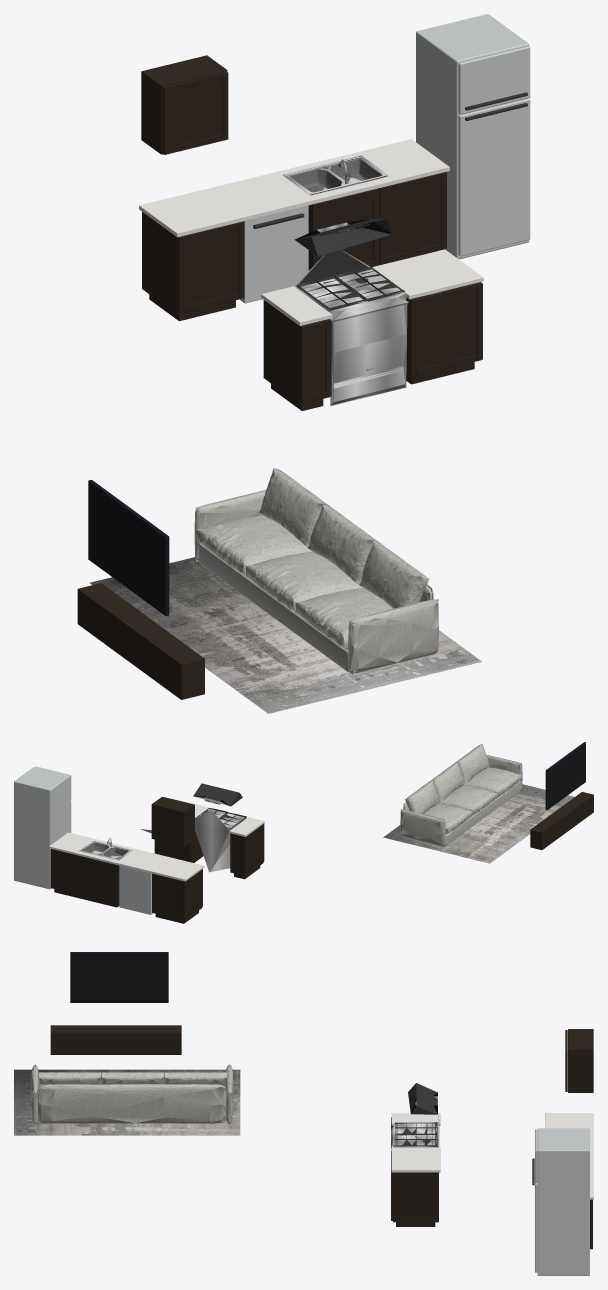
The model's file is bell-living-kitchen-v4.glb.
3 renders of one model, top to bottom at view 1: azimuth 30°, elevation 25°; view 2: azimuth 150°, elevation 25°; view 3: azimuth 270°, elevation 25°, orthographic. The views are drawn at different scales.
Parts seen in each view (by area): view 1: Bell living rug, Bell range and oven, Bell refrigerator lower door, Bell rear white counter, Bell refrigerator enclosed body, Bell living media console, Bell living television, Bell living - Monaco - Braço · Sala 01, Bell dishwasher enclosed body, Bell stove right cabinet door 1 recessed panel, Bell living - 1 · Sala 03, Bell living - 1 · Sala 02 (+18 smaller); view 2: Bell refrigerator enclosed body, Bell living rug, Bell range and oven, Bell sink cabinet back, Bell rear white counter, Bell upper cabinet body, Bell living media console, Bell living television, Bell dishwasher enclosed body, Bell living - Monaco - Braço · Sala 02, Bell rear left cabinet back, Bell living - 1 · Sala 01 (+14 smaller); view 3: Bell refrigerator enclosed body, Bell living - Monaco - Braço · Sala 03, Bell living rug, Bell living television, Bell living media console, Bell stove right cabinet right side, Bell range and oven, Bell upper cabinet body, Bell stove right cabinet white top, Bell rear white counter, Bell living - 1#1 · Sala 01, Bell living - 1#1 · Sala 02 (+2 smaller).
Boxes of the visible parts, bbox=[...] form: Bell living rug: bbox=[89, 557, 481, 713]; Bell range and oven: bbox=[294, 218, 440, 405]; Bell refrigerator lower door: bbox=[458, 98, 530, 256]; Bell rear white counter: bbox=[139, 139, 449, 237]; Bell refrigerator enclosed body: bbox=[416, 14, 529, 259]; Bell living media console: bbox=[77, 583, 204, 699]; Bell living television: bbox=[88, 480, 169, 615]; Bell living - Monaco - Braço · Sala 01: bbox=[348, 599, 438, 674]; Bell dishwasher enclosed body: bbox=[239, 205, 308, 303]; Bell stove right cabinet door 1 recessed panel: bbox=[409, 282, 481, 375]; Bell living - 1 · Sala 03: bbox=[245, 551, 362, 613]; Bell living - 1 · Sala 02: bbox=[195, 515, 312, 576]; Bell refrigerator enclosed body: bbox=[14, 766, 70, 889]; Bell living rug: bbox=[383, 784, 574, 863]; Bell range and oven: bbox=[140, 783, 246, 872]; Bell sink cabinet back: bbox=[51, 849, 116, 902]; Bell rear white counter: bbox=[49, 832, 204, 881]; Bell upper cabinet body: bbox=[151, 797, 194, 846]; Bell living media console: bbox=[530, 792, 593, 849]; Bell living television: bbox=[545, 742, 585, 810]; Bell dishwasher enclosed body: bbox=[119, 865, 153, 914]; Bell living - Monaco - Braço · Sala 02: bbox=[400, 809, 445, 846]; Bell rear left cabinet back: bbox=[153, 874, 183, 918]; Bell living - 1 · Sala 01: bbox=[463, 767, 522, 797]; Bell refrigerator enclosed body: bbox=[537, 1128, 589, 1275]; Bell living - Monaco - Braço · Sala 03: bbox=[37, 1084, 227, 1123]; Bell living rug: bbox=[14, 1069, 240, 1135]; Bell living television: bbox=[70, 952, 168, 1002]; Bell living media console: bbox=[50, 1025, 181, 1054]; Bell stove right cabinet right side: bbox=[393, 1172, 438, 1220]; Bell range and oven: bbox=[391, 1083, 439, 1150]; Bell upper cabinet body: bbox=[568, 1029, 593, 1092]; Bell stove right cabinet white top: bbox=[391, 1147, 440, 1172]; Bell rear white counter: bbox=[545, 1113, 593, 1199]; Bell living - 1#1 · Sala 01: bbox=[164, 1072, 227, 1084]; Bell living - 1#1 · Sala 02: bbox=[38, 1072, 101, 1084].
Bounding box in the file's own units: 7.35 × 2.18 × 7.96.
Materials: 29 (13 with a texture image).
